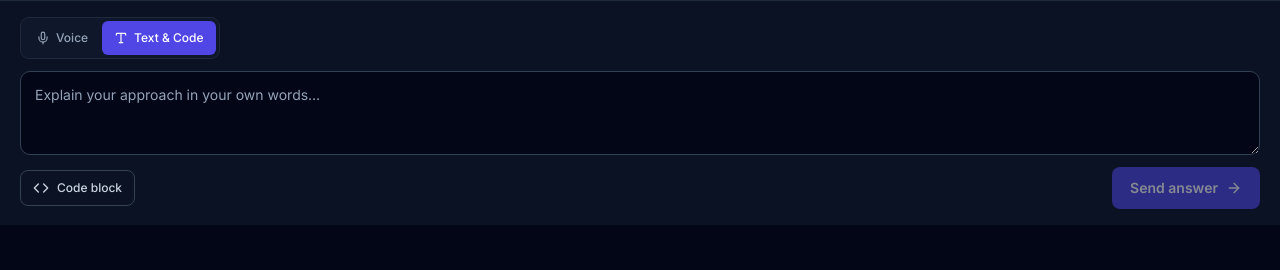
switching back to Text & Code mid-recording turns the microphone off and keeps the typed draft
Type "My draft" into the text box named "Type your answer" at (640, 113), box [20,71,1260,155]
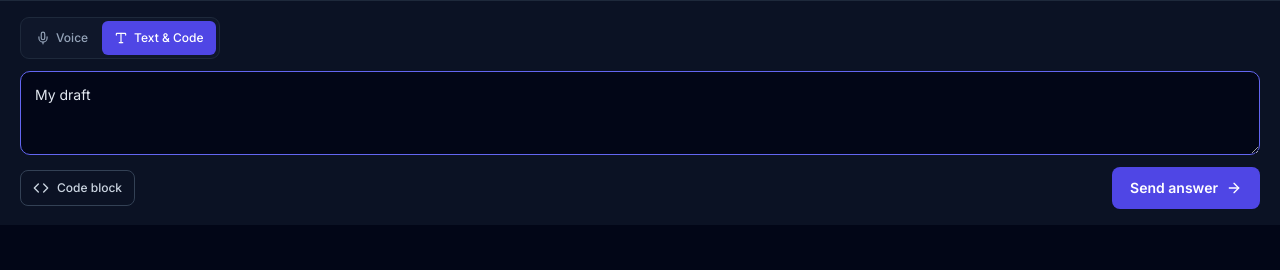
Click the button "Voice" at (62, 38), box [24,21,100,55]
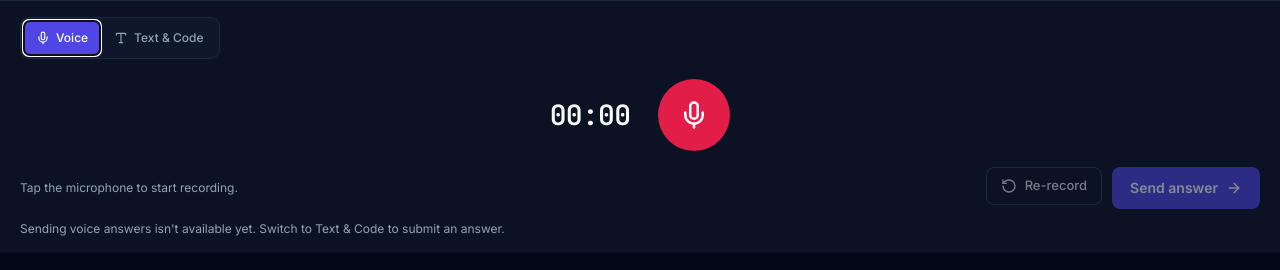
Click the button named "Start recording" at (694, 115), box [658,79,730,151]
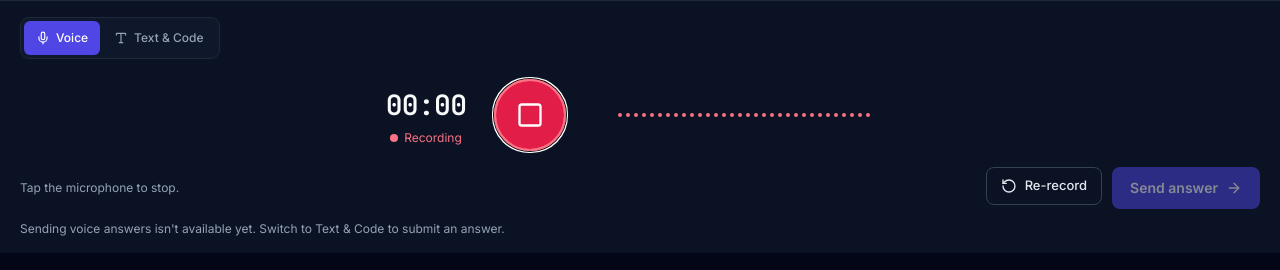
Expected: the button named "Stop recording" is shown, [494,79,566,151]
Click the button "Text & Code" at (159, 38), box [102,21,216,55]
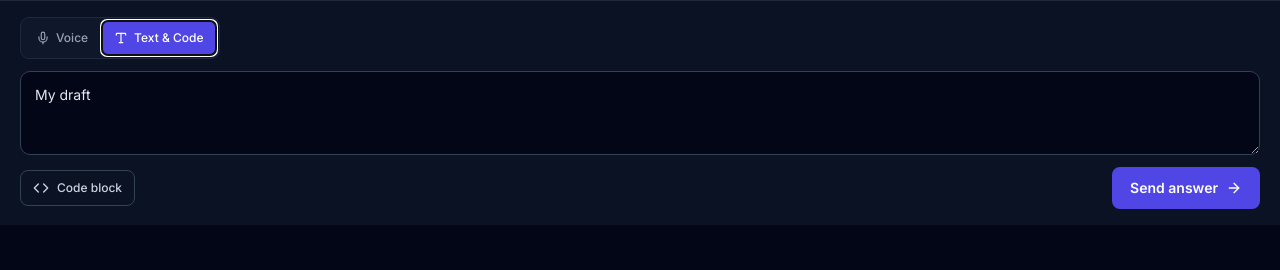
Expected: the text box named "Type your answer" holds "My draft", [20,71,1260,155]
